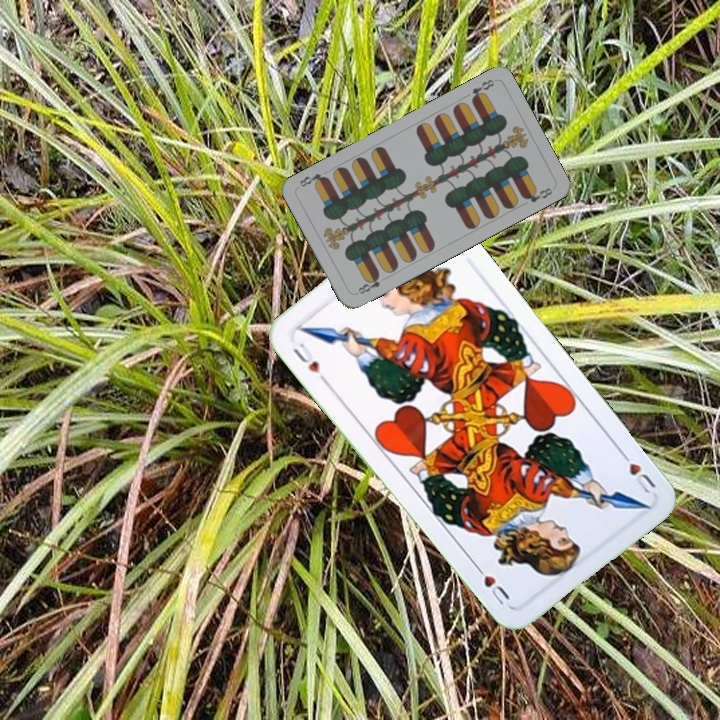E8: (467, 75, 497, 104), (352, 270, 383, 297)
HU: (615, 446, 659, 496), (288, 338, 330, 386)
